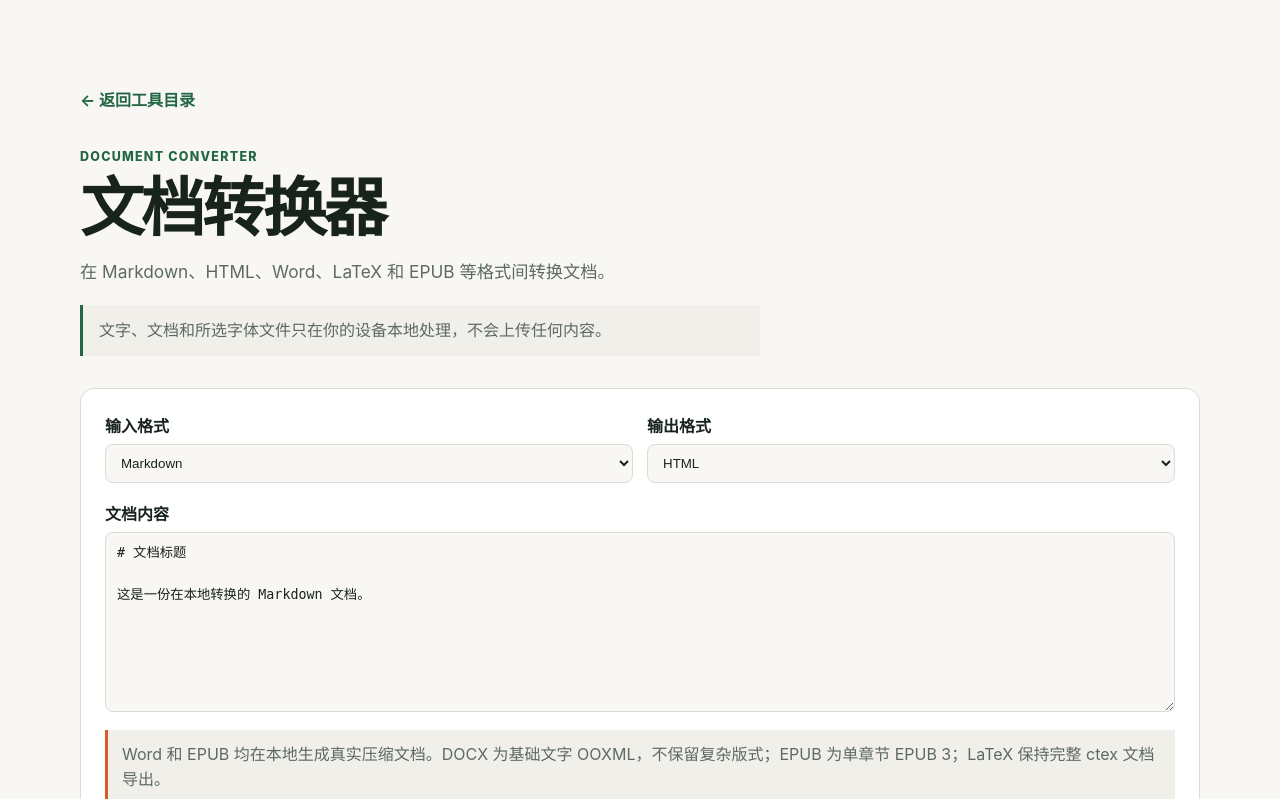
Test: 文档与 Markdown UI › 文档转换器生成真实 HTML 和纯文本并显示格式限制
The image size is (1280, 799).
Replace the text in the text box labelled "文档内容" with "# 标题" at (640, 622), box left=105, top=532, right=1175, bottom=712
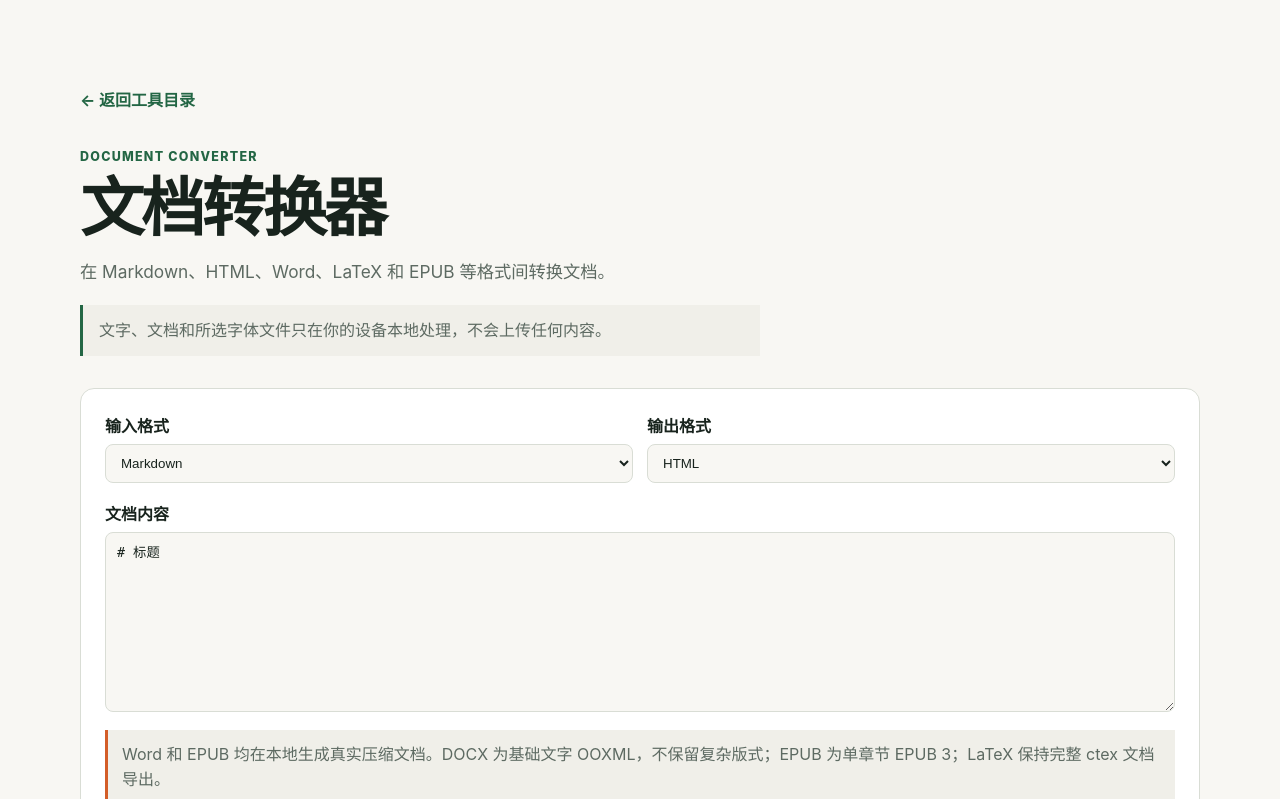
Expected: the text "Word 和 EPUB" is shown, left=122, top=744, right=1154, bottom=789
Select "纯文本" in the dropdown labelled "输出格式" at (911, 464), box left=647, top=444, right=1175, bottom=483
(page scrolled)
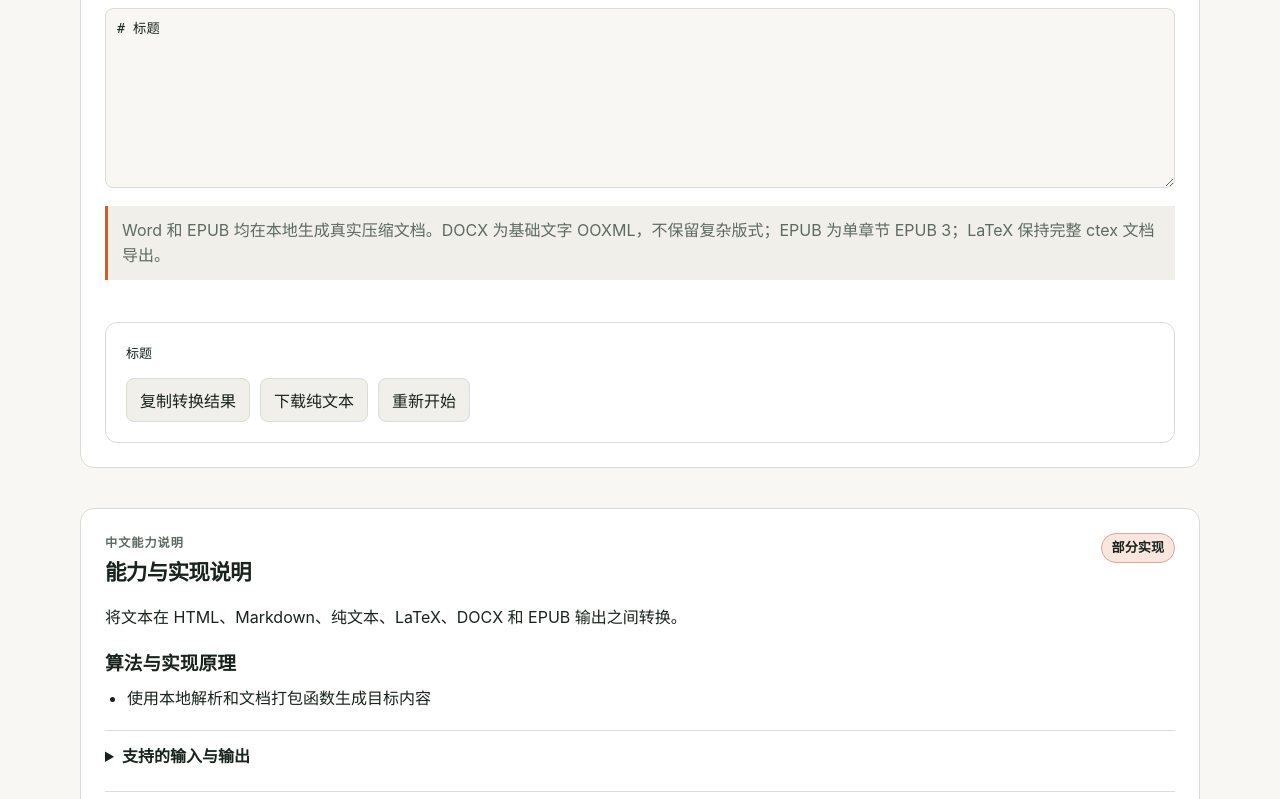
Result: the element named "转换结果" reads "标题" at left=126, top=346, right=152, bottom=361
Result: the button "下载纯文本" is shown at left=260, top=378, right=368, bottom=422
